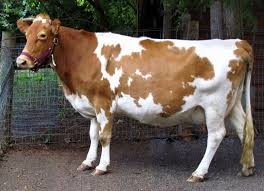waka: (15, 9, 256, 182)
